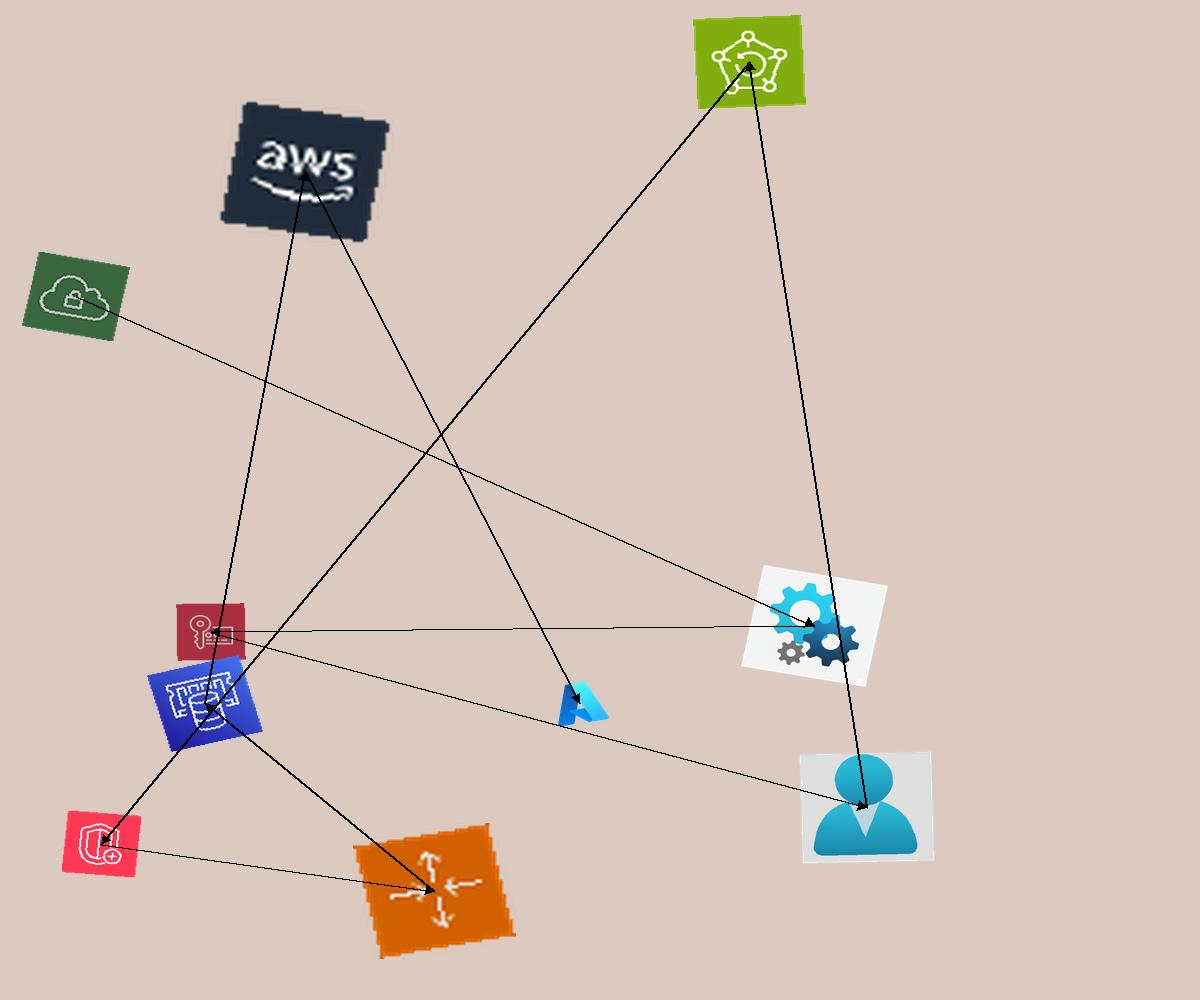AWS-Backup: (693, 15, 806, 109)
AWS-Cloud-logo: (217, 99, 393, 245)
AWS-ElastiCache: (147, 655, 263, 752)
AWS-Key-Management-Service: (176, 603, 246, 661)
AWS-Private_vpc: (21, 251, 131, 342)
AWS-Scaling-group: (353, 823, 516, 959)
AWS-Shield: (61, 810, 142, 878)
Azure_api: (741, 565, 888, 687)
Azure_services: (547, 676, 612, 730)
Azure_users: (799, 751, 935, 864)
